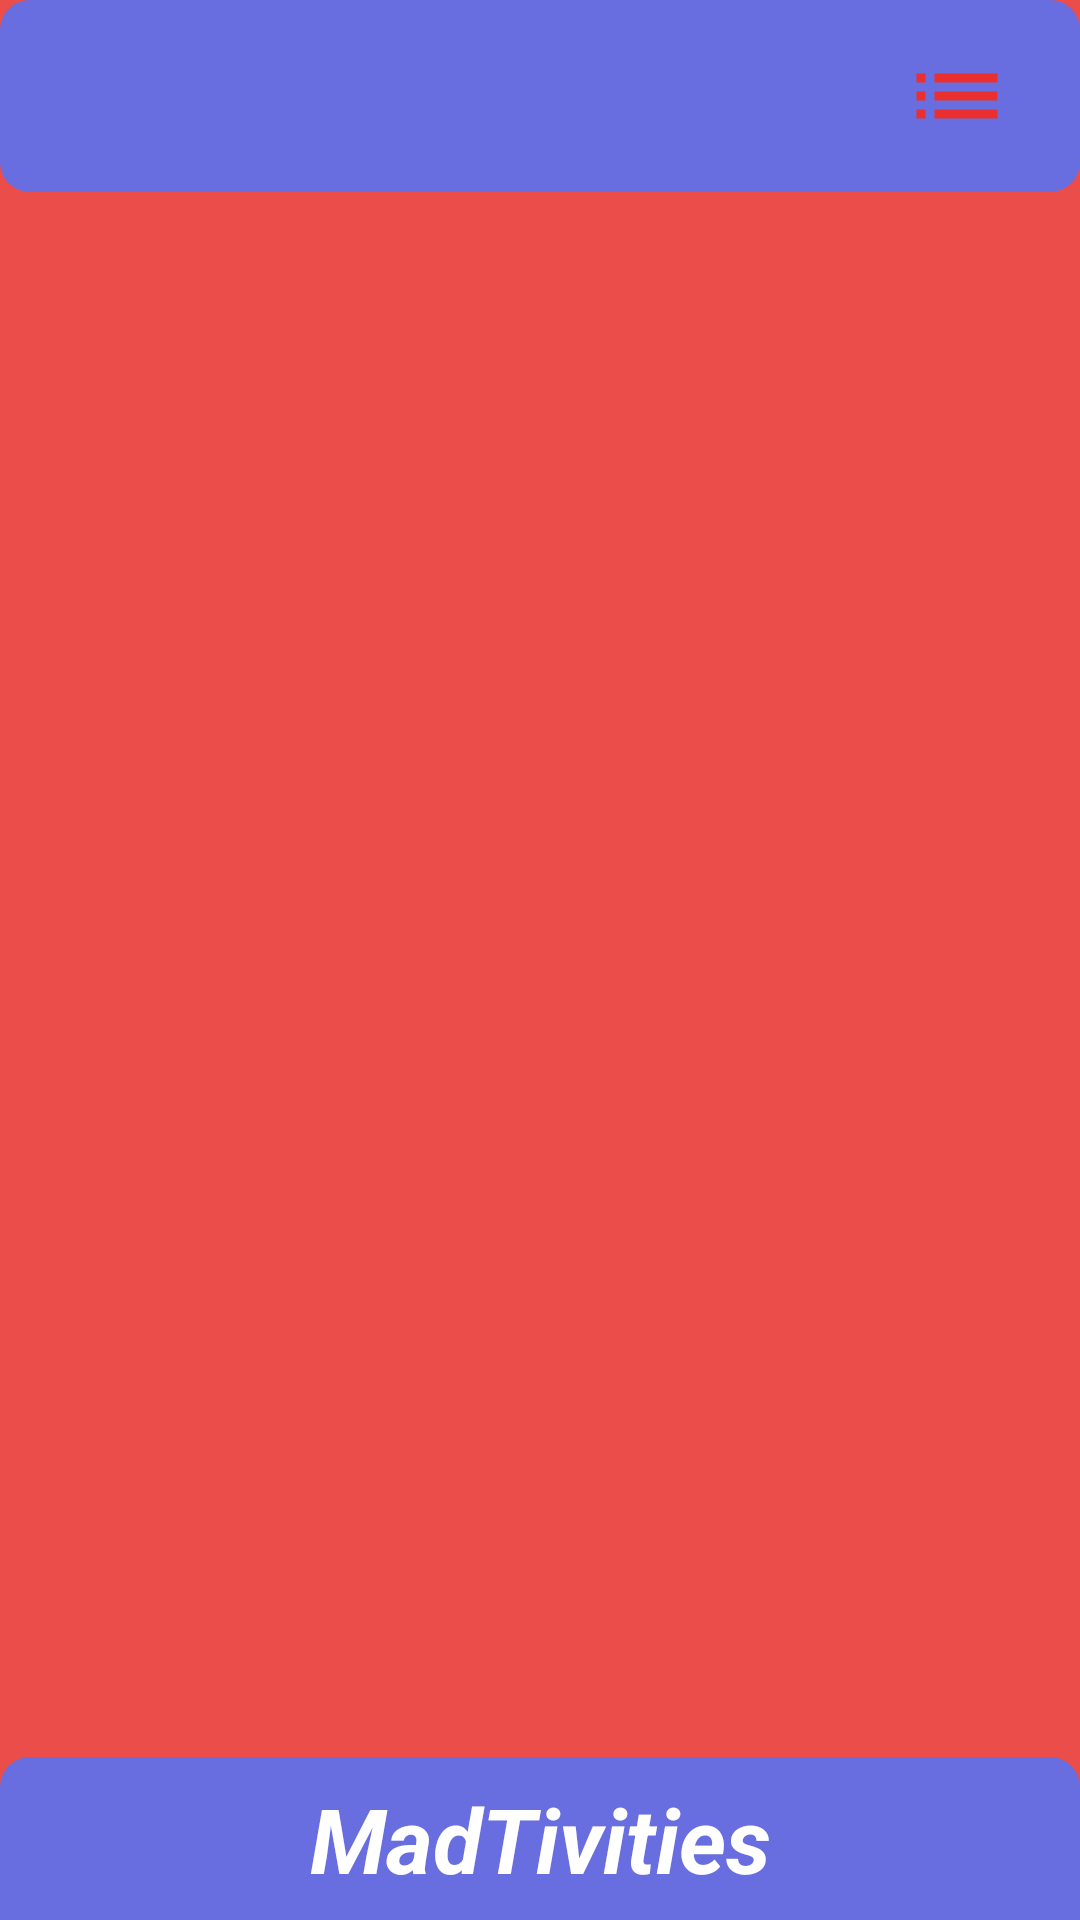

Icon click points for this 1080w x 1920h phone screenshot, format (x=x, y=y):
list: (x=957, y=96)
